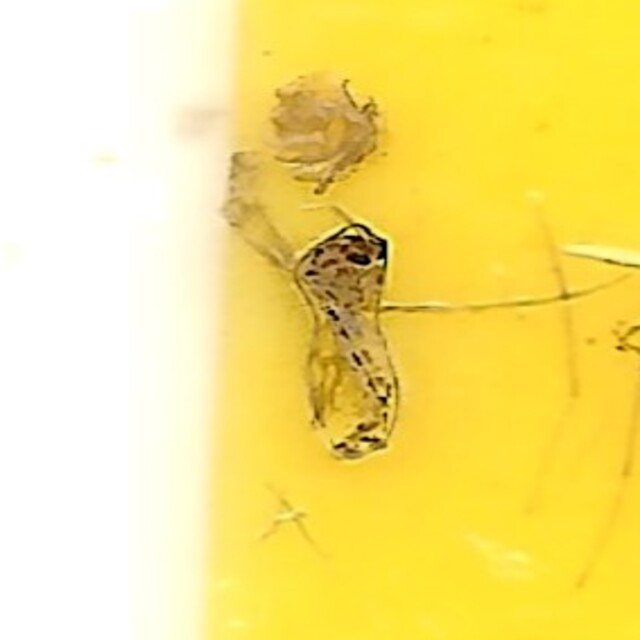Nematocera: (226, 181, 414, 459)
